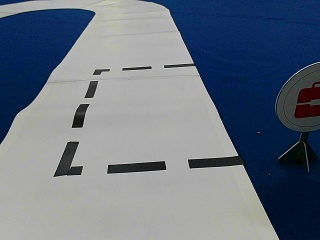company: (275, 63, 319, 130)
